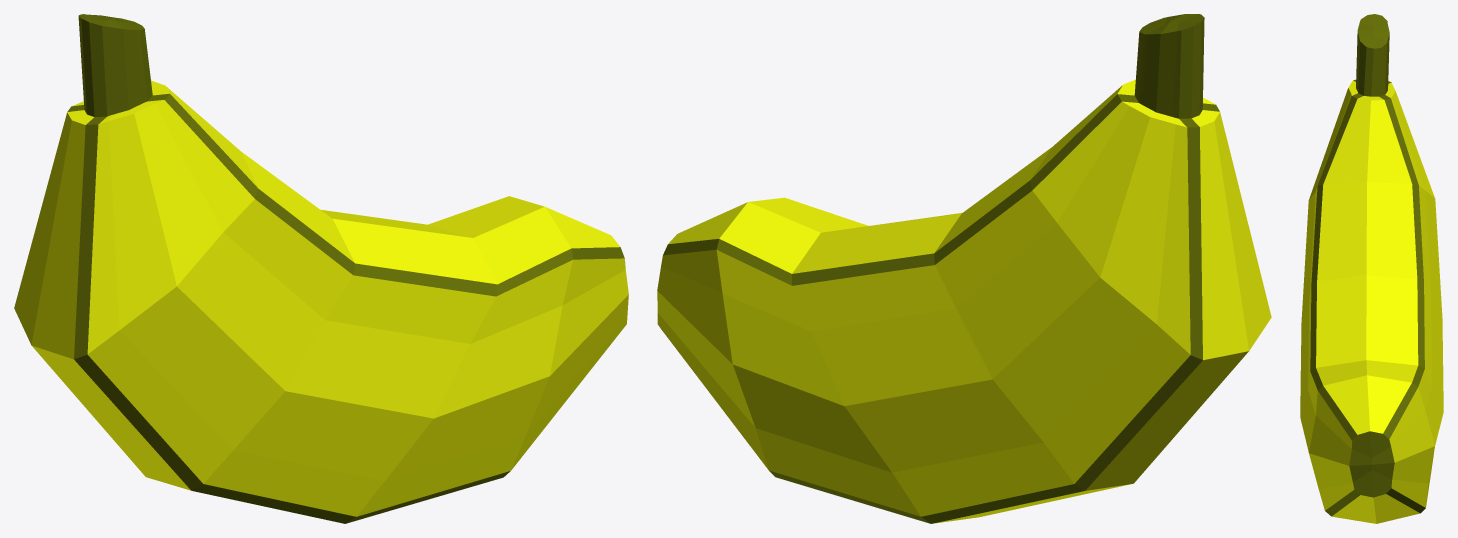
Rendered from Platano.fbx.
The picture shows the model from 3 angles, left to right: view 1: azimuth 30°, elevation 25°; view 2: azimuth 150°, elevation 25°; view 3: azimuth 270°, elevation 25°; orthographic projection. The views are drawn at different scales.
Visible parts, largest first — view 1: Platano; view 2: Platano; view 3: Platano.
Boxes of the visible parts, left/top/right/bottom form: Platano: left=14, top=14, right=628, bottom=523; Platano: left=657, top=14, right=1271, bottom=523; Platano: left=1300, top=14, right=1443, bottom=523.
Size of the model in its own units: 90.79 by 81.56 by 27.88.
